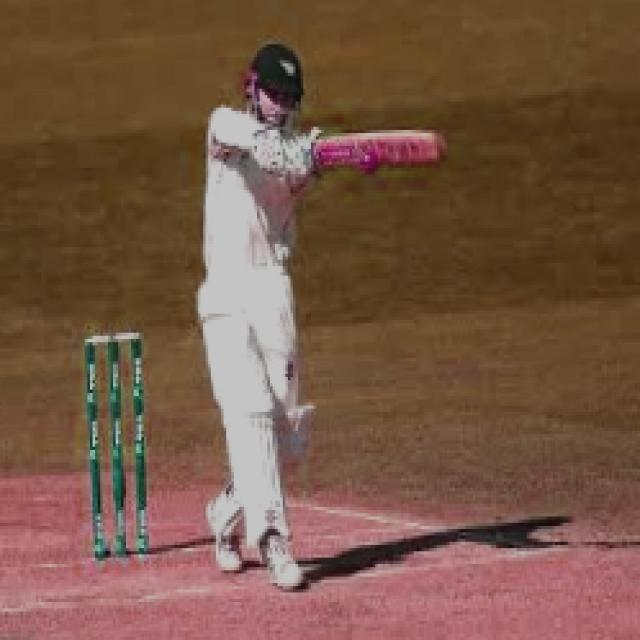toe: (418, 125, 451, 170)
